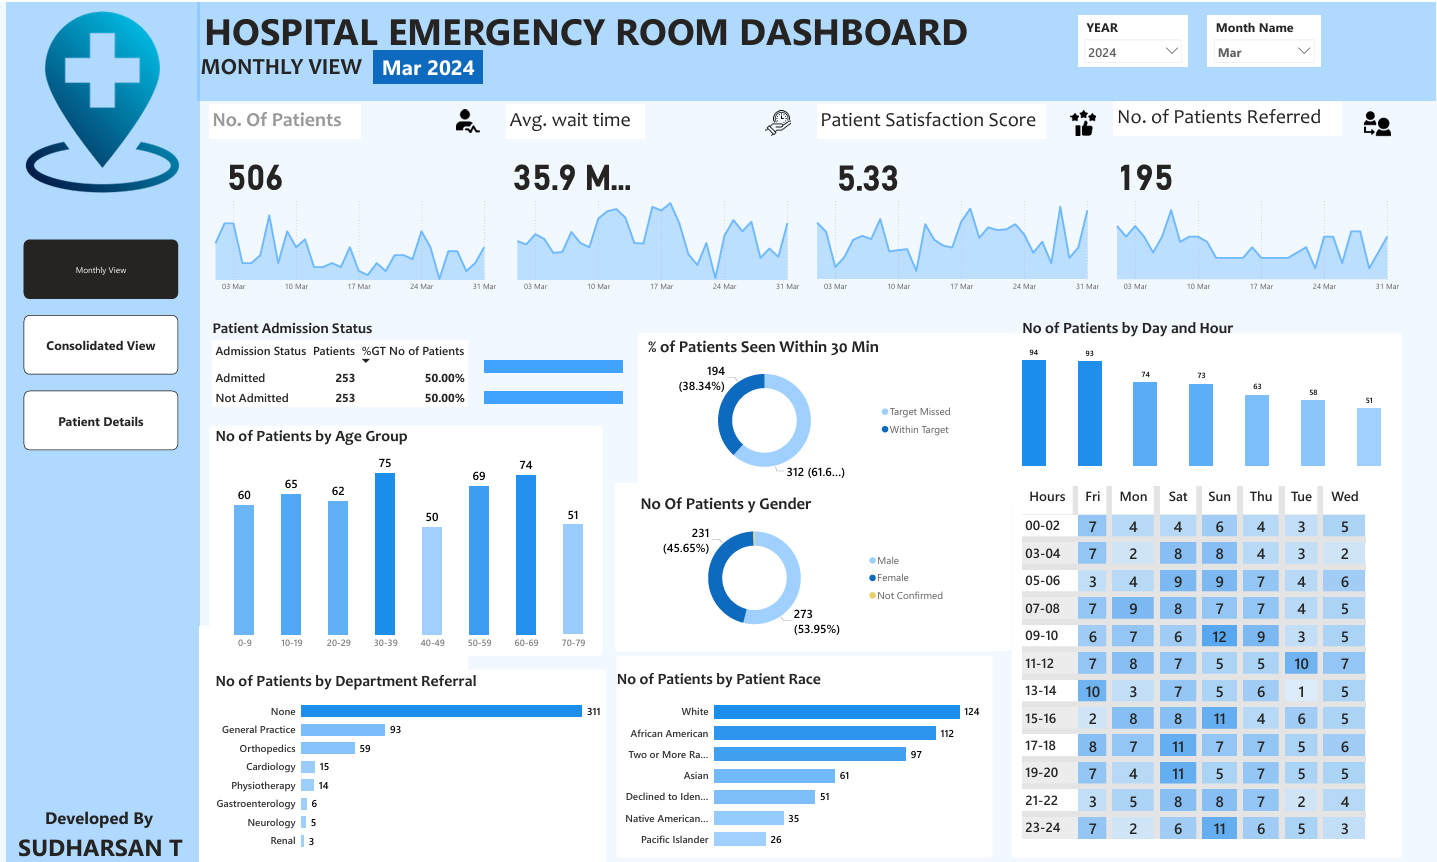

This screenshot's page, from the dashboard's own definition file:
{"tool":"powerbi","page":{"name":"Monthly View","canvas":[2300,1400],"ordinal":0},"visuals":[{"type":"textbox","box":[335.3,164.1,242.5,54.7],"z":0},{"type":"shape","box":[10,0,310,1399],"z":1000},{"type":"shape","box":[316.2,0,1983,156.9],"z":2000},{"type":"textbox","box":[321,0,1253.1,95.1],"z":3000},{"type":"textbox","box":[316.2,73.7,280.6,61.8],"z":4000},{"type":"card","fields":{"Values":["Hospital ER_Data.No of Patients"]},"box":[321,214,173.6,118.9],"z":5000},{"type":"slicer","fields":{"Values":["Date Table.YEAR"]},"box":[1726.2,21.4,176,83.2],"z":6000},{"type":"slicer","fields":{"Values":["Date Table.Month Name"]},"box":[1933.1,21.4,180.7,83.2],"z":7000},{"type":"textbox","box":[320,1000,430,400],"z":8000},{"type":"card","fields":{"Values":["Min(Date Table.Month & Year)"]},"box":[597.5,78.3,175,52.5],"z":9000},{"type":"textbox","box":[810.8,164.1,221.1,54.7],"z":10000},{"type":"areaChart","fields":{"Category":["Date Table.Date"],"Y":["Hospital ER_Data.No of Patients"]},"box":[321,302,477.9,171.2],"z":11000},{"type":"card","fields":{"Values":["Hospital ER_Data.Average Wait Time"]},"box":[810.8,214,209.2,118.9],"z":12000},{"type":"areaChart","fields":{"Category":["Date Table.Date"],"Y":["Avg(Hospital ER_Data.Patient Waittime)"]},"box":[803.7,302,480.3,171.2],"z":13000},{"type":"textbox","box":[1783.3,159.3,366.2,54.7],"z":14000},{"type":"card","fields":{"Values":["Hospital ER_Data.No. Of Patient Referred"]},"box":[1764.3,214,137.9,118.9],"z":15000},{"type":"areaChart","fields":{"Category":["Date Table.Date"],"Y":["Hospital ER_Data.No. Of Patient Referred"]},"box":[1764.3,302,480.3,171.2],"z":16000},{"type":"card","fields":{"Values":["Hospital ER_Data.Satisfaction Score"]},"box":[1284,214,209.2,121.3],"z":17000},{"type":"areaChart","fields":{"Category":["Date Table.Date"],"Y":["Hospital ER_Data.Satisfaction Score"]},"box":[1284,304.3,480.3,168.8],"z":18000},{"type":"textbox","box":[1307.8,164.1,366.2,54.7],"z":19000},{"type":"pivotTable","title":"Patient Admission Status","fields":{"Rows":["Hospital ER_Data.Admission Status"],"Values":["Hospital ER_Data.No of Patients1","Hospital ER_Data.No of Patients"]},"box":[335.3,506.5,594.4,161.7],"z":20000},{"type":"barChart","fields":{"Category":["Hospital ER_Data.Admission Status"],"Y":["Hospital ER_Data.No of Patients"]},"box":[770.4,535,273.4,142.7],"z":21000},{"type":"shape","box":[335.3,677.7,630.1,368.5],"z":22000},{"type":"clusteredColumnChart","fields":{"Category":["Hospital ER_Data.Age Group"],"Y":["Hospital ER_Data.No of Patients"]},"box":[340,677.7,630.1,368.5],"z":23000},{"type":"shape","box":[340,1067.6,630.1,332.9],"z":24000},{"type":"clusteredBarChart","fields":{"Category":["Hospital ER_Data.Department Referral"],"Y":["Hospital ER_Data.No of Patients"]},"box":[340,1070,627.7,299.6],"z":25000},{"type":"shape","box":[1020,528.8,600,270],"z":26000},{"type":"donutChart","title":"% of Patients Seen Within 30 Min","fields":{"Category":["Hospital ER_Data.Waittime status"],"Y":["Hospital ER_Data.No of Patients"]},"box":[1031.9,535,504.1,235.4],"z":27000},{"type":"shape","box":[984.4,770.4,634.9,268.7],"z":28000},{"type":"donutChart","title":"No Of Patients y Gender","fields":{"Y":["Hospital ER_Data.No of Patients"],"Category":["Hospital ER_Data.Patient Gender"]},"box":[1020,787,504.1,235.4],"z":29000},{"type":"shape","box":[986.8,1046.2,601.6,323.4],"z":30000},{"type":"clusteredBarChart","fields":{"Y":["Hospital ER_Data.No of Patients"],"Category":["Hospital ER_Data.Patient Race"]},"box":[982,1067.6,592.1,302],"z":31000},{"type":"shape","box":[1619.2,530.2,625.3,839.3],"z":32000},{"type":"pivotTable","fields":{"Rows":["Hospital ER_Data.Waittime Interval"],"Columns":["Date Table.Day Name"],"Values":["Hospital ER_Data.No of Patients"]},"box":[1631.1,770.4,587.3,584.9],"z":33000},{"type":"columnChart","title":"No of Patients by Day and Hour","fields":{"Category":["Date Table.Day Name"],"Y":["Hospital ER_Data.No of Patients"]},"box":[1631.1,506.5,587.3,242.5],"z":34000},{"type":"image","box":[14.3,9.5,299.6,299.6],"z":35000},{"type":"image","box":[725.5,166.4,48.2,50],"z":36000},{"type":"image","box":[1221.1,167.8,51.1,51.1],"z":37000},{"type":"image","box":[2178.6,167.1,52.9,54.3],"z":38000},{"type":"image","box":[1702.5,167.5,62.5,51.2],"z":39000},{"type":"pageNavigator","box":[37.6,380.4,247.8,337.6],"z":40000},{"type":"textbox","box":[66.6,1281.6,228.3,49.9],"z":41000},{"type":"textbox","box":[23.8,1322,290.1,64.2],"z":42000}]}

Visuals, with their boxes in screenshot pixels (x1, y1, x2, y2), scaled from the page's 2300x1400 canvas onto the 1437x862 screenshot:
textbox: box=[209, 101, 361, 135]
shape: box=[6, 0, 200, 861]
shape: box=[198, 0, 1436, 97]
textbox: box=[201, 0, 983, 59]
textbox: box=[198, 45, 373, 83]
card - Hospital ER_Data.No of Patients: box=[201, 132, 309, 205]
slicer - Date Table.YEAR: box=[1078, 13, 1188, 64]
slicer - Date Table.Month Name: box=[1208, 13, 1321, 64]
textbox: box=[200, 616, 469, 861]
card - Min(Date Table.Month & Year): box=[373, 48, 483, 81]
textbox: box=[507, 101, 645, 135]
areaChart - Date Table.Date x Hospital ER_Data.No of Patients: box=[201, 186, 499, 291]
card - Hospital ER_Data.Average Wait Time: box=[507, 132, 637, 205]
areaChart - Date Table.Date x Avg(Hospital ER_Data.Patient Waittime): box=[502, 186, 802, 291]
textbox: box=[1114, 98, 1343, 132]
card - Hospital ER_Data.No. Of Patient Referred: box=[1102, 132, 1188, 205]
areaChart - Date Table.Date x Hospital ER_Data.No. Of Patient Referred: box=[1102, 186, 1402, 291]
card - Hospital ER_Data.Satisfaction Score: box=[802, 132, 933, 206]
areaChart - Date Table.Date x Hospital ER_Data.Satisfaction Score: box=[802, 187, 1102, 291]
textbox: box=[817, 101, 1046, 135]
"Patient Admission Status" pivotTable: box=[209, 312, 581, 411]
barChart - Hospital ER_Data.Admission Status x Hospital ER_Data.No of Patients: box=[481, 329, 652, 417]
shape: box=[209, 417, 603, 644]
clusteredColumnChart - Hospital ER_Data.Age Group x Hospital ER_Data.No of Patients: box=[212, 417, 606, 644]
shape: box=[212, 657, 606, 861]
clusteredBarChart - Hospital ER_Data.Department Referral x Hospital ER_Data.No of Patients: box=[212, 659, 605, 843]
shape: box=[637, 326, 1012, 492]
"% of Patients Seen Within 30 Min" donutChart: box=[645, 329, 960, 474]
shape: box=[615, 474, 1012, 640]
"No Of Patients y Gender" donutChart: box=[637, 485, 952, 630]
shape: box=[617, 644, 992, 843]
clusteredBarChart - Hospital ER_Data.No of Patients x Hospital ER_Data.Patient Race: box=[614, 657, 983, 843]
shape: box=[1012, 326, 1402, 843]
pivotTable - Hospital ER_Data.Waittime Interval x Date Table.Day Name: box=[1019, 474, 1386, 834]
"No of Patients by Day and Hour" columnChart: box=[1019, 312, 1386, 461]
image: box=[9, 6, 196, 190]
image: box=[453, 102, 483, 133]
image: box=[763, 103, 795, 135]
image: box=[1361, 103, 1394, 136]
image: box=[1064, 103, 1103, 135]
pageNavigator: box=[23, 234, 178, 442]
textbox: box=[42, 789, 184, 820]
textbox: box=[15, 814, 196, 854]
